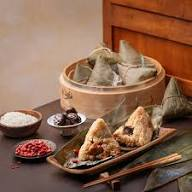zongzi: (78, 106, 153, 161), (118, 40, 156, 84), (162, 77, 191, 119), (87, 56, 119, 85)
